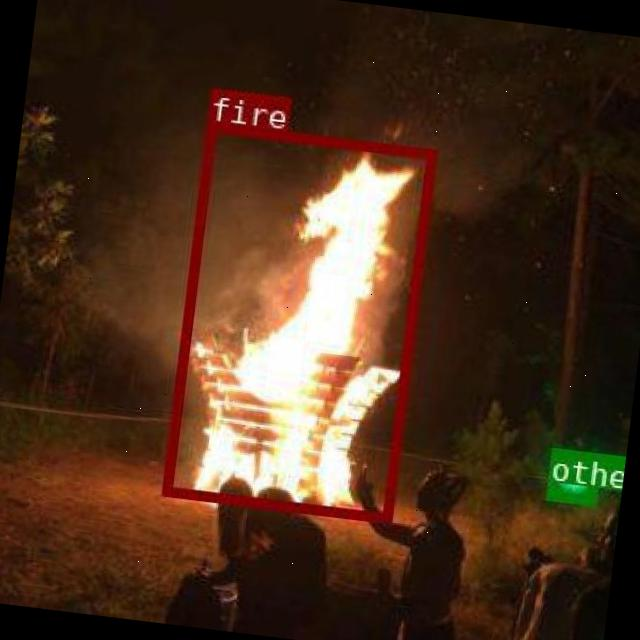fire: (160, 120, 434, 522)
